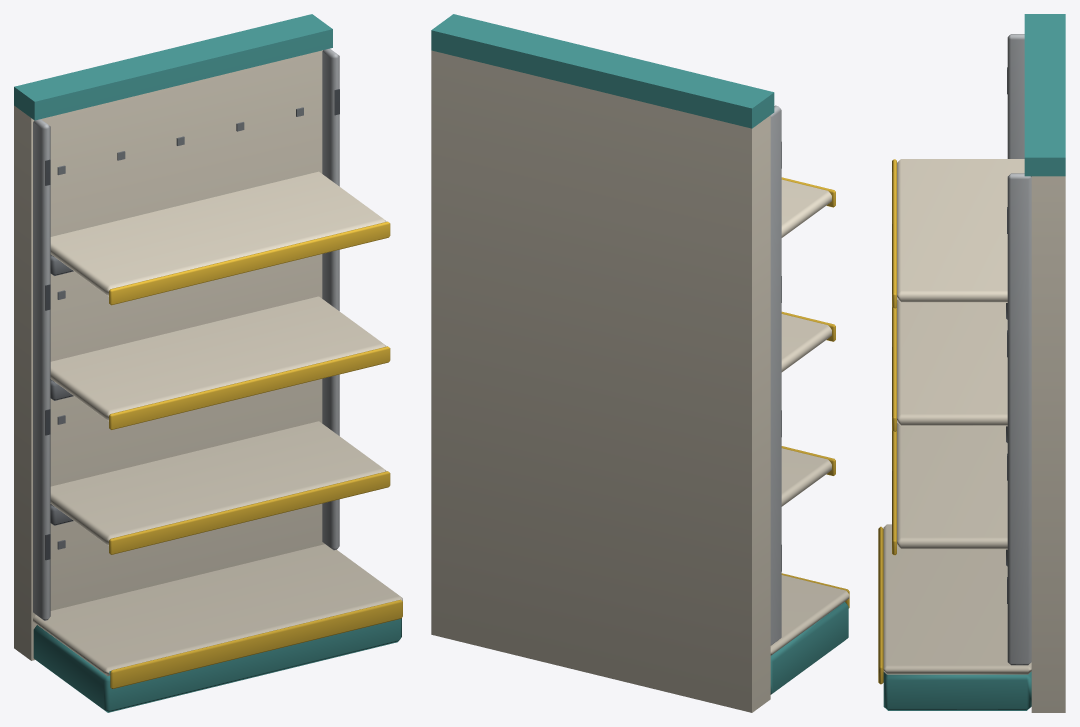
File: Gondola_Wall_10.glb
3 views of the same model, side by side, from view 1: azimuth 30°, elevation 25°; view 2: azimuth 150°, elevation 25°; view 3: azimuth 270°, elevation 25° (orthographic). The views are drawn at different scales.
Parts seen in each view (by area): view 1: SM_Gondola_Wall_10; view 2: SM_Gondola_Wall_10; view 3: SM_Gondola_Wall_10.
Part boxes in pixels (x1,y1,x2,y2): SM_Gondola_Wall_10: [14, 14, 402, 712]; SM_Gondola_Wall_10: [431, 14, 849, 712]; SM_Gondola_Wall_10: [878, 14, 1065, 712].
Size of the model in its own units: 1 by 1.8 by 0.55.
Materials: 1 (1 with a texture image).
